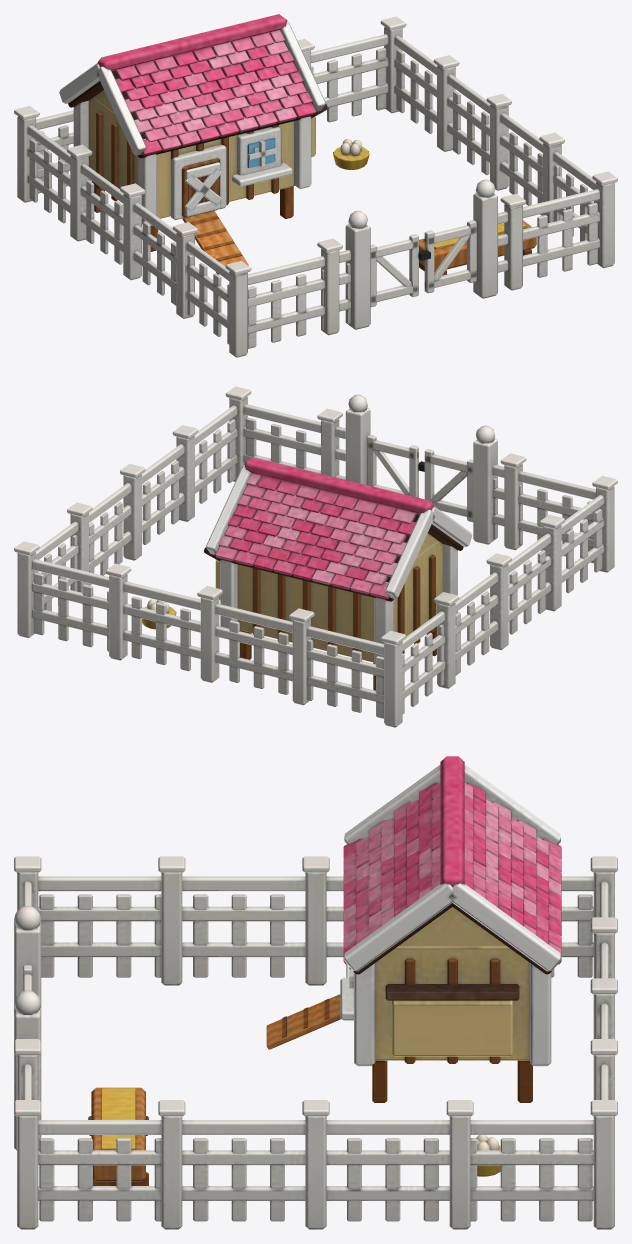
File: silkie_coop.glb
3 renders of one model, top to bottom at view 1: azimuth 30°, elevation 25°; view 2: azimuth 150°, elevation 25°; view 3: azimuth 270°, elevation 25°, orthographic. The views are drawn at different scales.
Visible parts, largest first — view 1: silkie_coop; view 2: silkie_coop; view 3: silkie_coop.
Boxes of the visible parts, bbox=[...] form: silkie_coop: bbox=[14, 14, 617, 357]; silkie_coop: bbox=[14, 386, 617, 727]; silkie_coop: bbox=[14, 756, 617, 1229].
Size of the model in its own units: 1.99 by 0.8814 by 1.99.
1 material, 1 textured.
